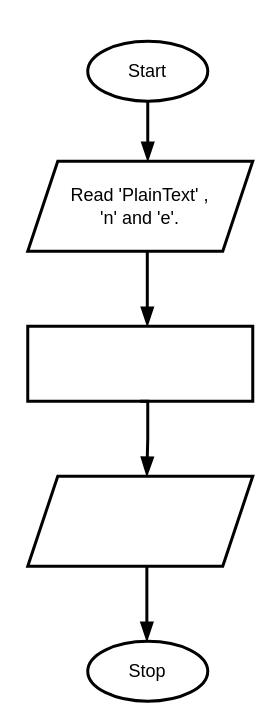
Some shapes in this 279 by 728 pixel diagram are drawn without their labels. Here are the shapes that lost their labels. From the top down, the centre of each, then its label:
At (140,363): "M= encode plaintext C=M e mod n C= Cipher Text".
At (140,520): "Return Cipher text".
